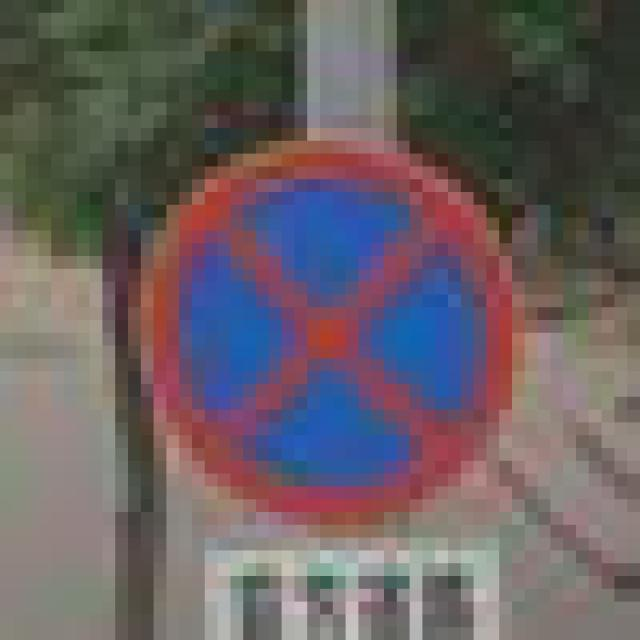no stopping or standing: (137, 143, 524, 524)
